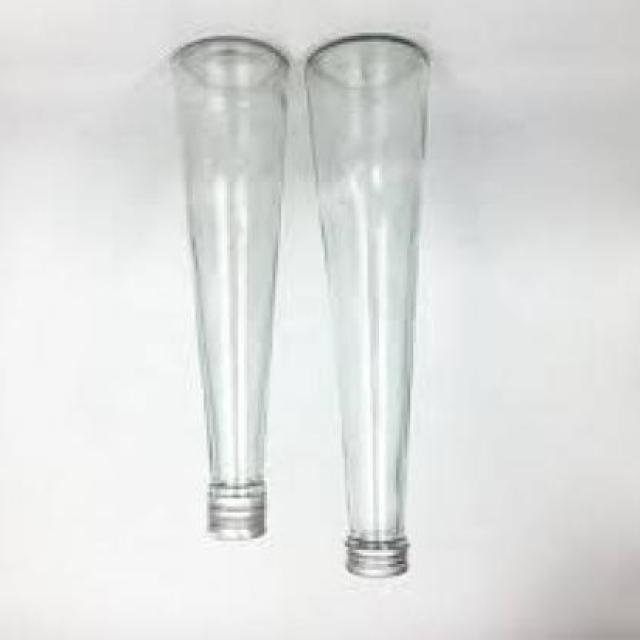kaca: (302, 39, 424, 550), (170, 40, 288, 494)
